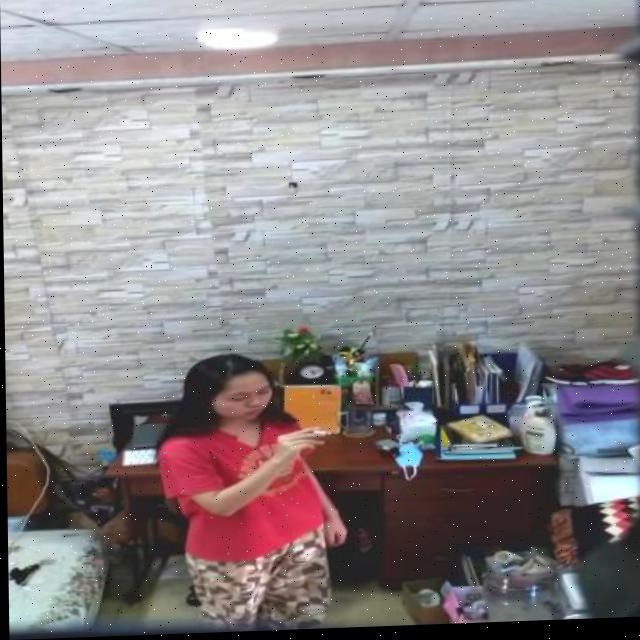cigarette: (311, 433, 331, 439)
